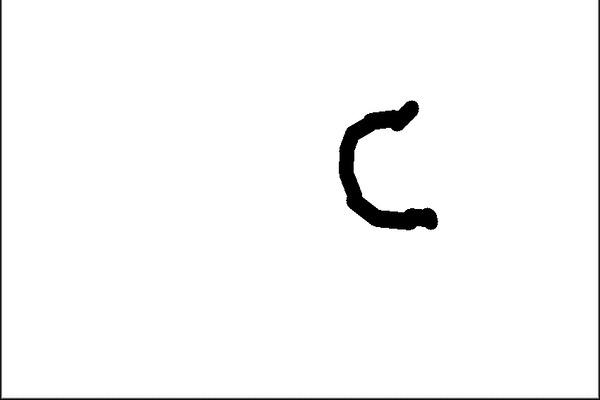C: (333, 96, 449, 233)
